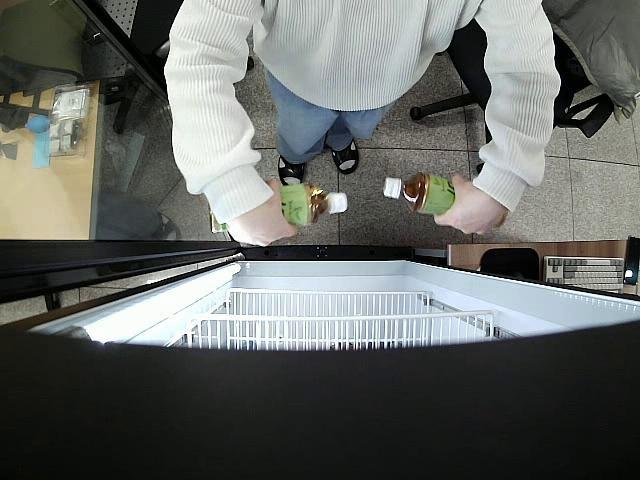19_17cha: (208, 183, 349, 233), (384, 170, 454, 215)
